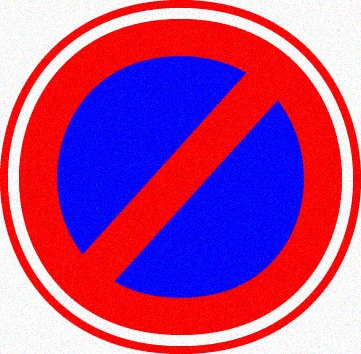Prohibition_sign: (1, 2, 356, 348)
